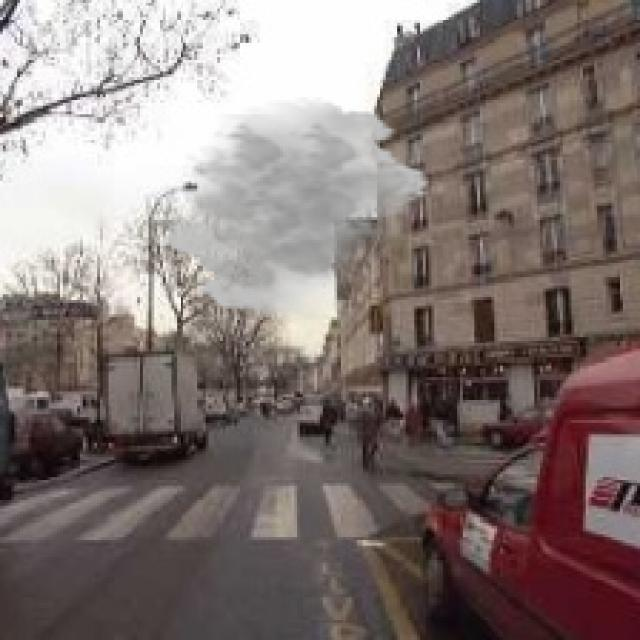Smoke: (162, 97, 432, 323)
